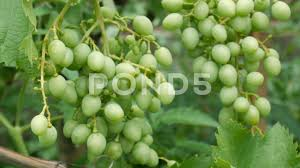grapes: (45, 15, 163, 160), (179, 6, 282, 125)
